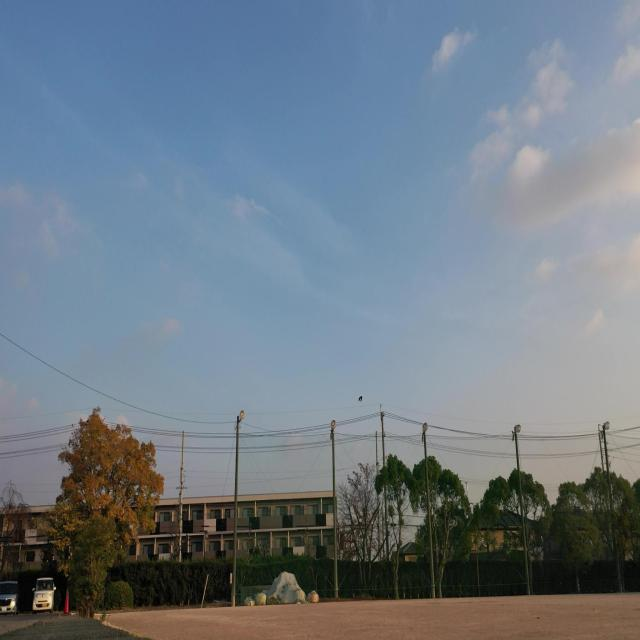Birds: (354, 392, 366, 404)
